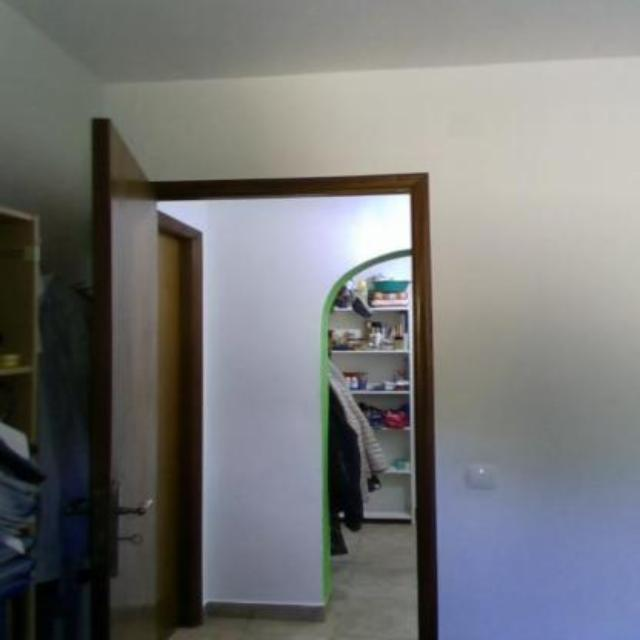door: (77, 111, 174, 636)
